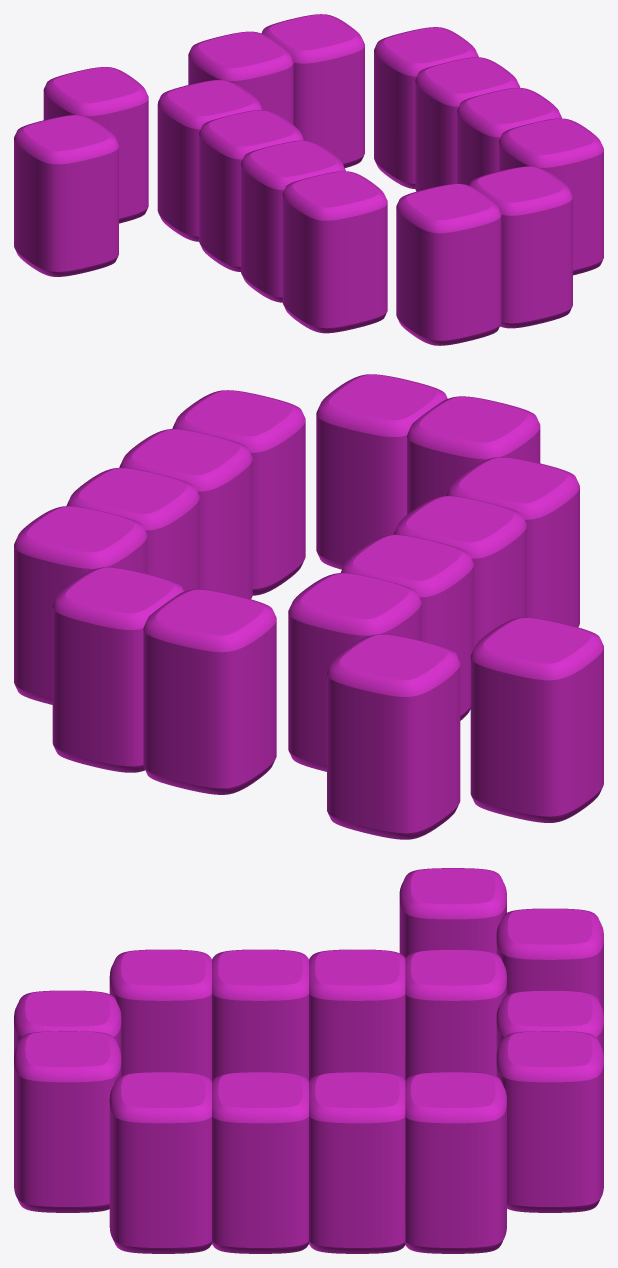
The model's file is Letter_Q.fbx.
3 renders of one model, top to bottom at view 1: azimuth 30°, elevation 25°; view 2: azimuth 150°, elevation 25°; view 3: azimuth 270°, elevation 25°, orthographic. The views are drawn at different scales.
Visible parts, largest first — view 1: Letter_Q; view 2: Letter_Q; view 3: Letter_Q.
Part boxes in pixels (x1,y1,x2,y2): Letter_Q: (14,14,603,345); Letter_Q: (14,374,603,839); Letter_Q: (14,868,603,1253).
Size of the model in its own units: 0.5146 by 0.14 by 0.5146.
